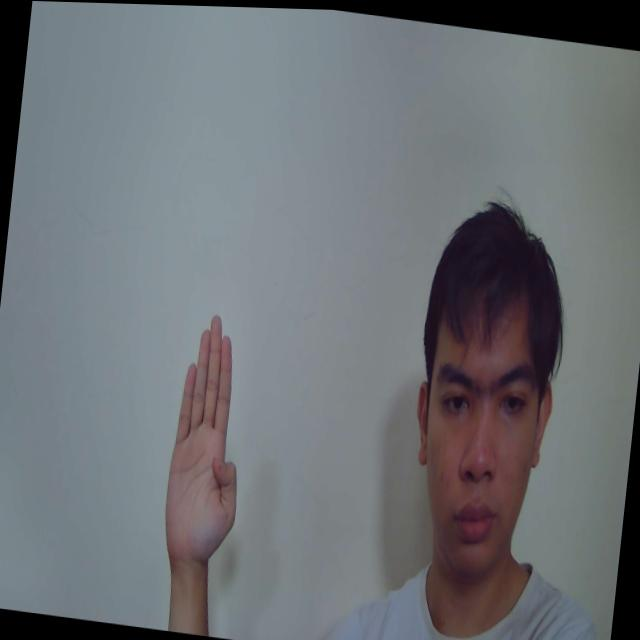B: (160, 306, 257, 566)
